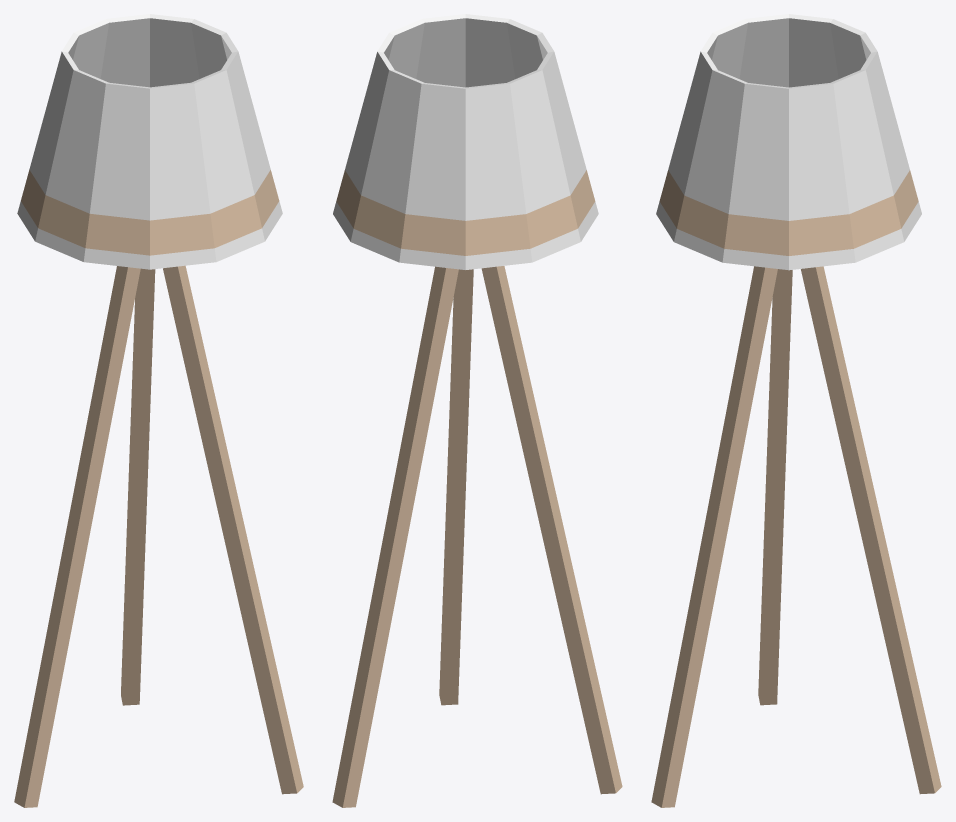
File: lamp_2.fbx
3 renders of one model, left to right at view 1: azimuth 30°, elevation 25°; view 2: azimuth 150°, elevation 25°; view 3: azimuth 270°, elevation 25°, orthographic.
Visible parts, largest first — view 1: lamp_002; view 2: lamp_002; view 3: lamp_002.
Boxes of the visible parts, bbox=[...] form: lamp_002: bbox=[14, 14, 303, 807]; lamp_002: bbox=[332, 14, 622, 807]; lamp_002: bbox=[651, 14, 941, 807].
Bounding box in the file's own units: 69.96 × 185 × 68.04.
